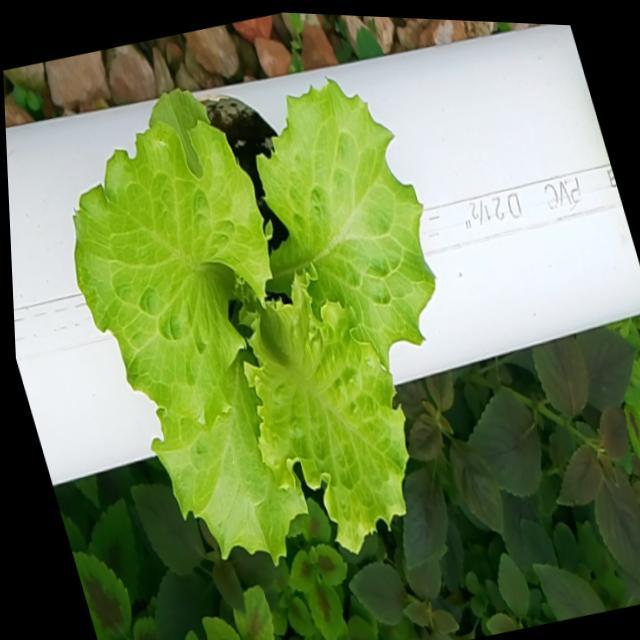Baby: (77, 87, 438, 571)
